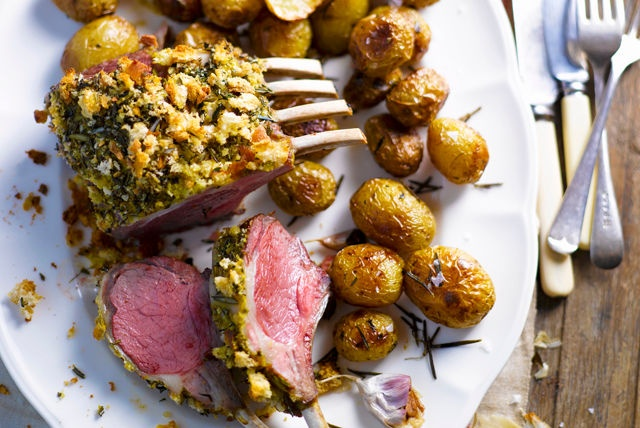background: (43, 0, 497, 286)
